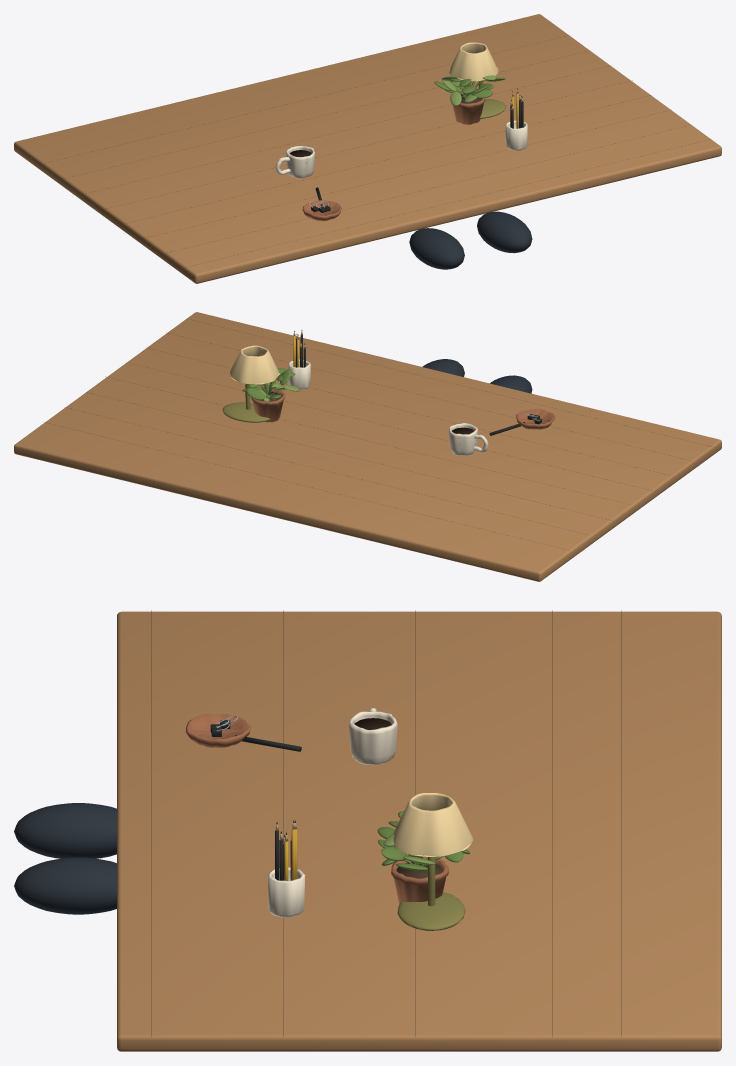
The model's file is portfolio-environment.glb.
3 renders of one model, top to bottom at view 1: azimuth 30°, elevation 25°; view 2: azimuth 150°, elevation 25°; view 3: azimuth 270°, elevation 25°, orthographic. The views are drawn at different scales.
Parts seen in each view (by area): view 1: Desk, ForegroundKnee, ForegroundKnee.001, LampShade, PlantLeaf, CoffeeCup, PlantPot, PencilCup, ClipDish; view 2: Desk, LampShade, CoffeeCup, PlantLeaf, LampBase, PlantPot, ClipDish, PencilCup, ForegroundKnee, ForegroundKnee.001; view 3: Desk, ForegroundKnee.001, ForegroundKnee, LampShade, CoffeeCup, DeskBoardSeam, LampBase, ClipDish, PencilCup, PlantPot, PlantLeaf, PencilMesh.
Boxes of the visible parts, bbox=[...] form: Desk: bbox=[14, 14, 721, 283]; ForegroundKnee: bbox=[409, 228, 464, 269]; ForegroundKnee.001: bbox=[477, 211, 532, 253]; LampShade: bbox=[449, 42, 498, 81]; PlantLeaf: bbox=[434, 75, 505, 105]; CoffeeCup: bbox=[286, 145, 314, 178]; PlantPot: bbox=[452, 90, 485, 124]; PencilCup: bbox=[505, 120, 527, 150]; ClipDish: bbox=[302, 200, 341, 220]; Desk: bbox=[14, 312, 721, 581]; LampShade: bbox=[230, 345, 279, 384]; CoffeeCup: bbox=[449, 423, 477, 455]; PlantLeaf: bbox=[242, 368, 299, 401]; LampBase: bbox=[222, 402, 270, 422]; PlantPot: bbox=[251, 388, 285, 422]; ClipDish: bbox=[516, 408, 555, 429]; PencilCup: bbox=[288, 359, 310, 389]; ForegroundKnee: bbox=[490, 375, 532, 393]; ForegroundKnee.001: bbox=[422, 359, 464, 376]; Desk: bbox=[117, 611, 721, 1051]; ForegroundKnee.001: bbox=[14, 857, 116, 914]; ForegroundKnee: bbox=[14, 803, 116, 858]; LampShade: bbox=[393, 793, 473, 856]; CoffeeCup: bbox=[349, 711, 397, 765]; DeskBoardSeam: bbox=[151, 610, 621, 1036]; LampBase: bbox=[397, 892, 465, 930]; ClipDish: bbox=[186, 713, 250, 747]; PencilCup: bbox=[268, 867, 305, 917]; PlantPot: bbox=[391, 855, 448, 904]; PlantLeaf: bbox=[377, 811, 469, 870]; PencilMesh: bbox=[275, 829, 297, 880].
Size of the model in its own units: 25 by 4.65 by 17.55.
